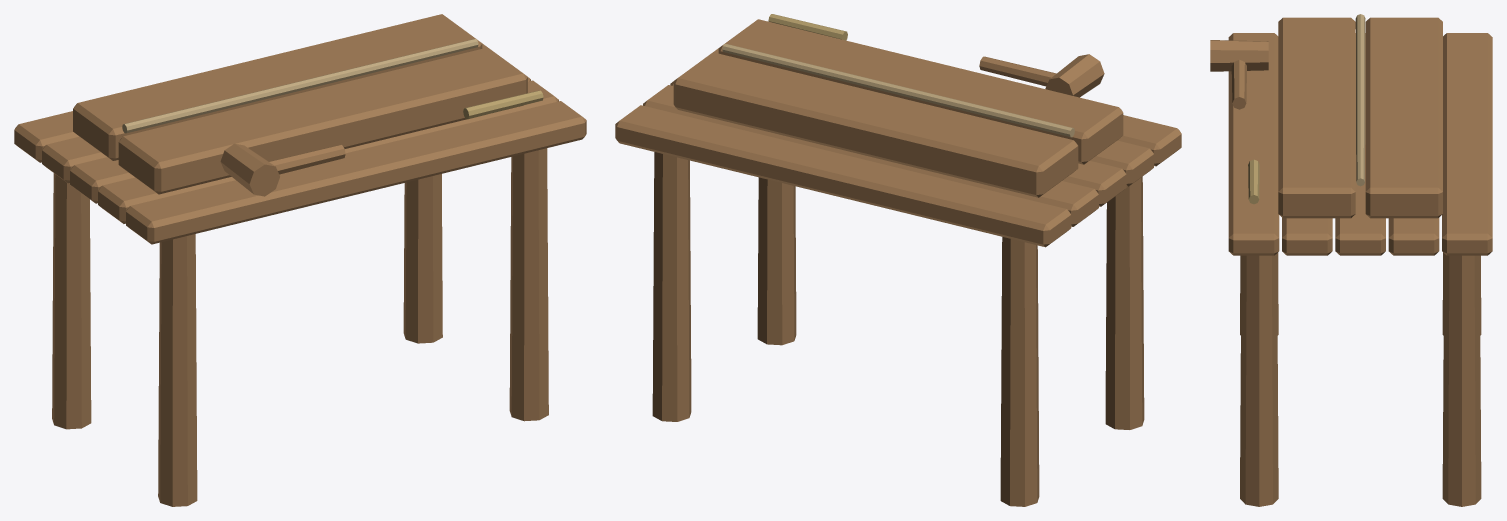
The picture shows the model from 3 angles, left to right: view 1: azimuth 30°, elevation 25°; view 2: azimuth 150°, elevation 25°; view 3: azimuth 270°, elevation 25°; orthographic projection. The views are drawn at different scales.
Visible parts, largest first — view 1: CE-041 Hull-seam caulking workbench batched; view 2: CE-041 Hull-seam caulking workbench batched; view 3: CE-041 Hull-seam caulking workbench batched.
Part boxes in pixels (x1,y1,x2,y2): CE-041 Hull-seam caulking workbench batched: (14,14,586,506); CE-041 Hull-seam caulking workbench batched: (615,14,1181,506); CE-041 Hull-seam caulking workbench batched: (1210,14,1492,506).
Size of the model in its own units: 1 by 0.735 by 0.5822.
